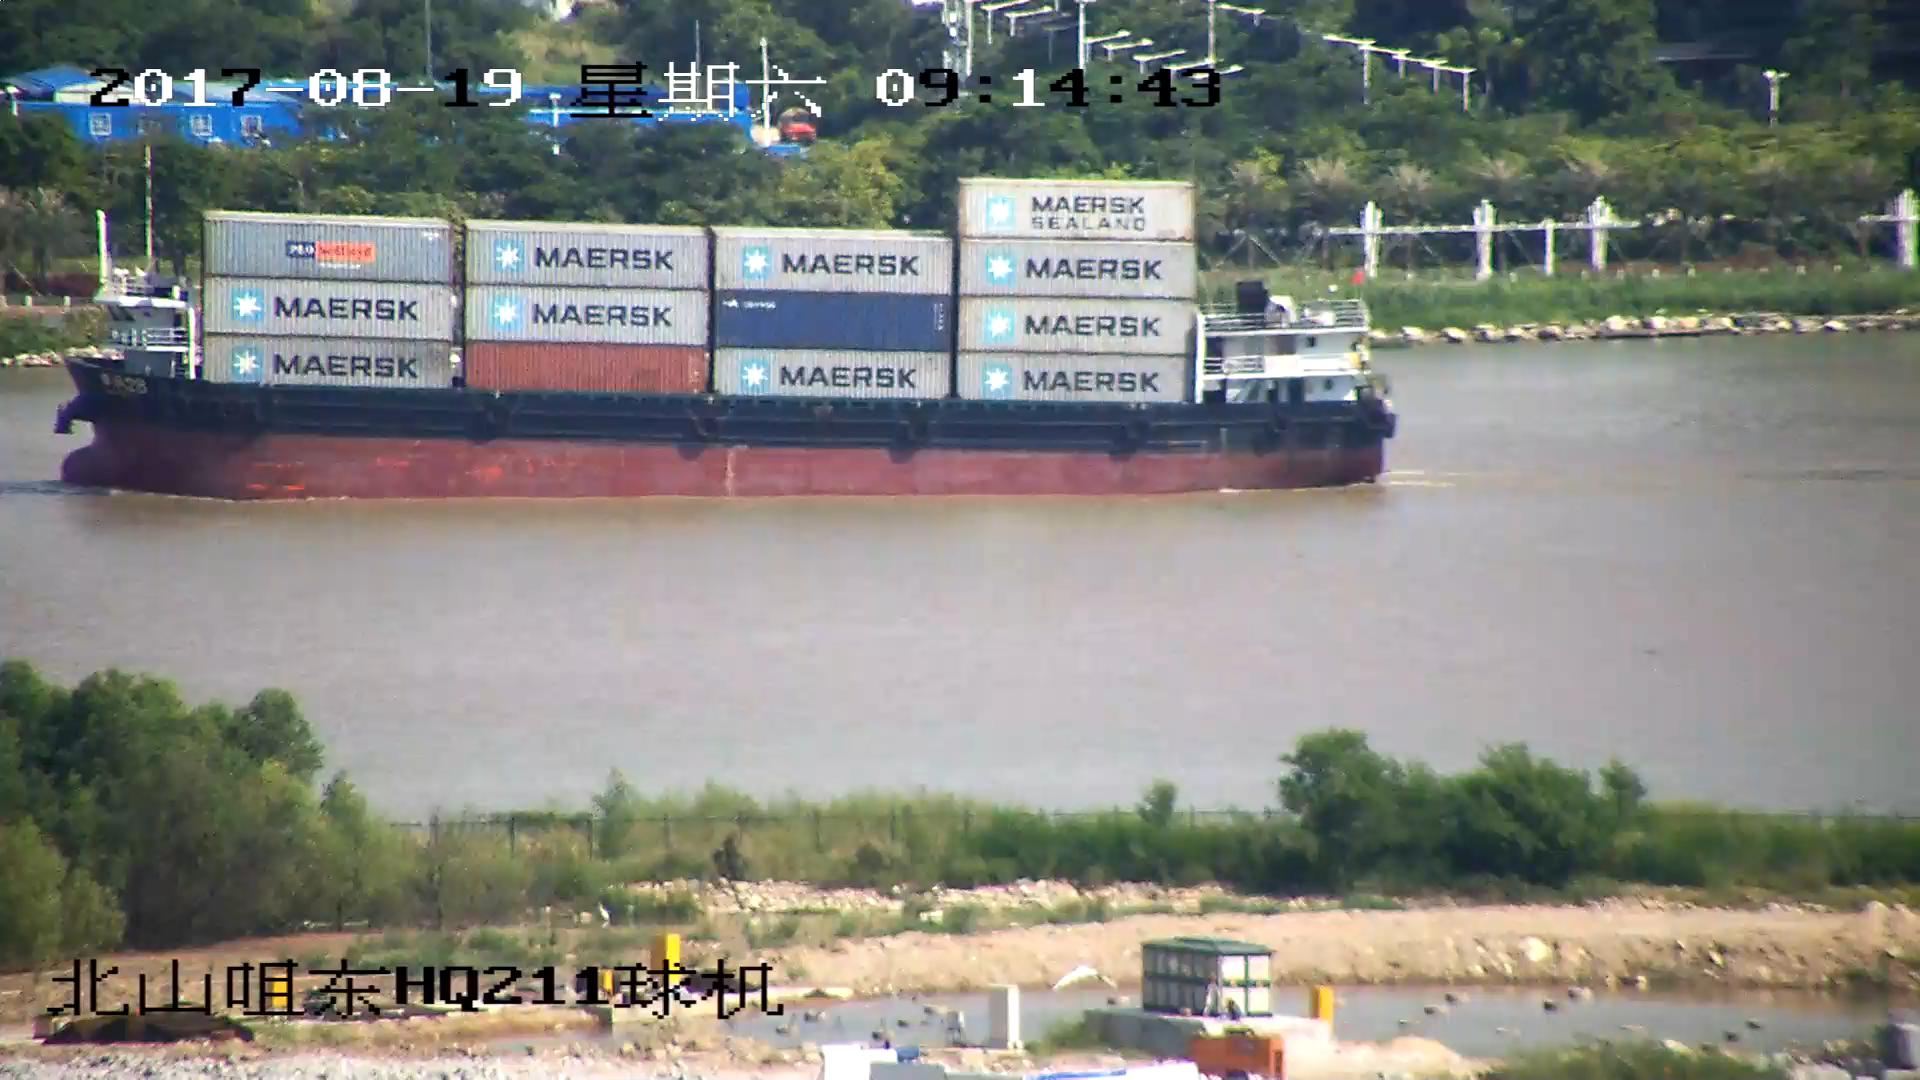container ship: (48, 173, 1397, 503)
